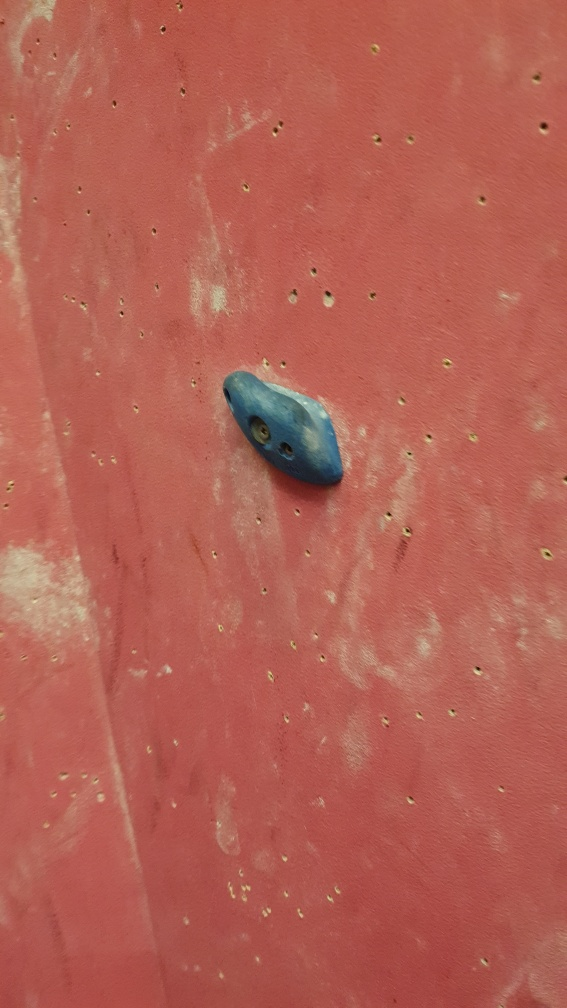Crimp: (213, 368, 347, 493)
